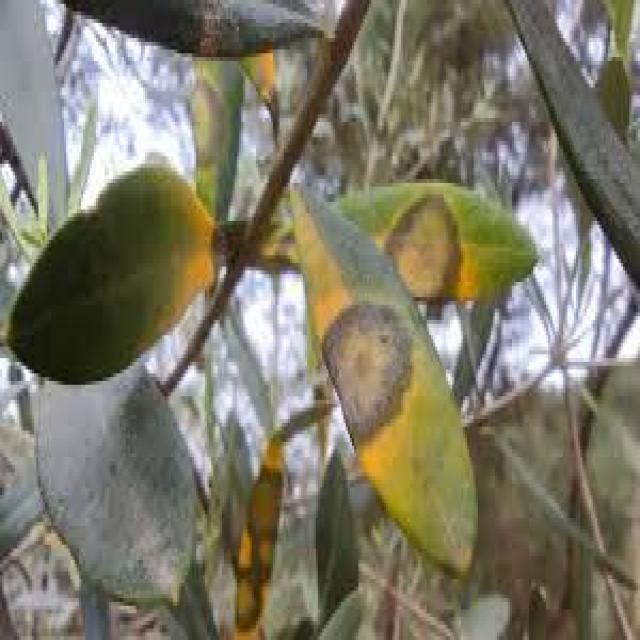OlivePeacockSpot: (290, 186, 472, 572), (340, 187, 536, 297), (232, 434, 282, 636)
